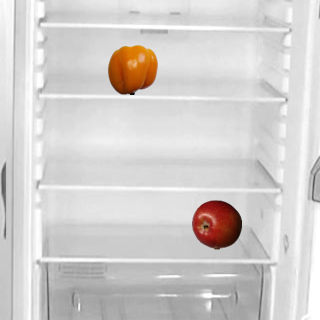Apple Braeburn: (191, 199, 241, 249)
Pepper Yellow: (107, 44, 157, 94)
